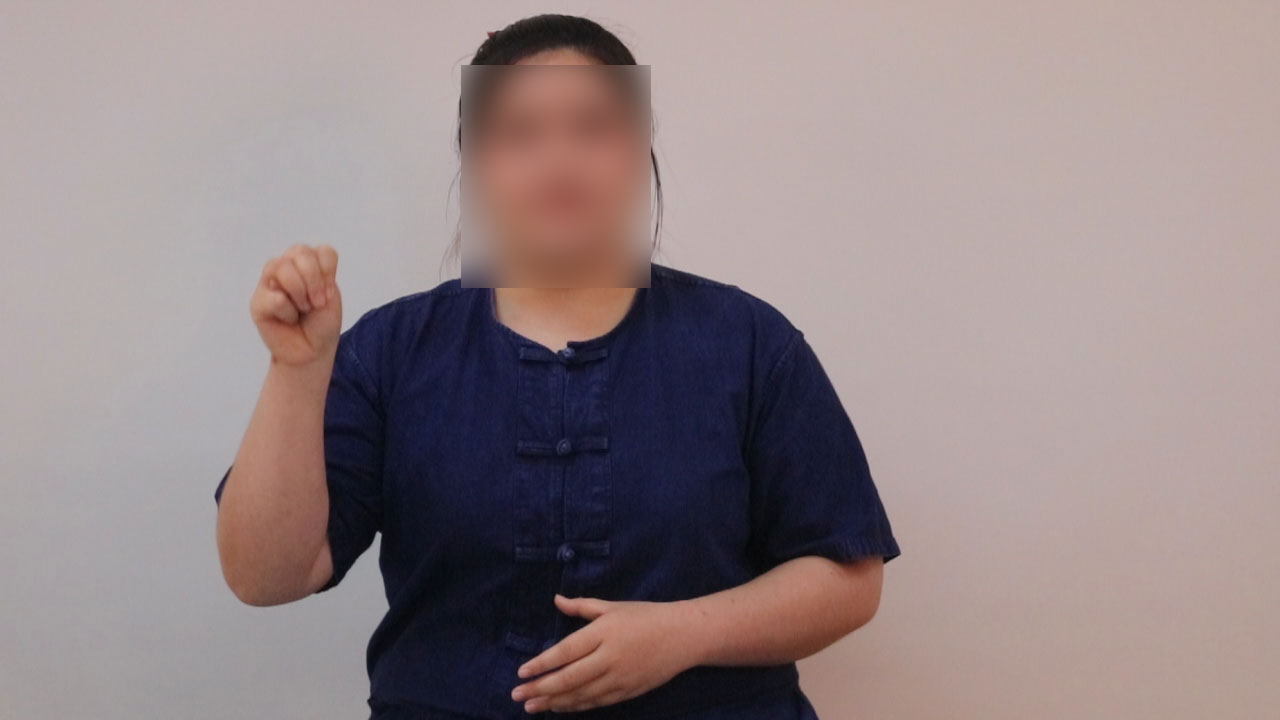mor: (243, 221, 362, 379)
